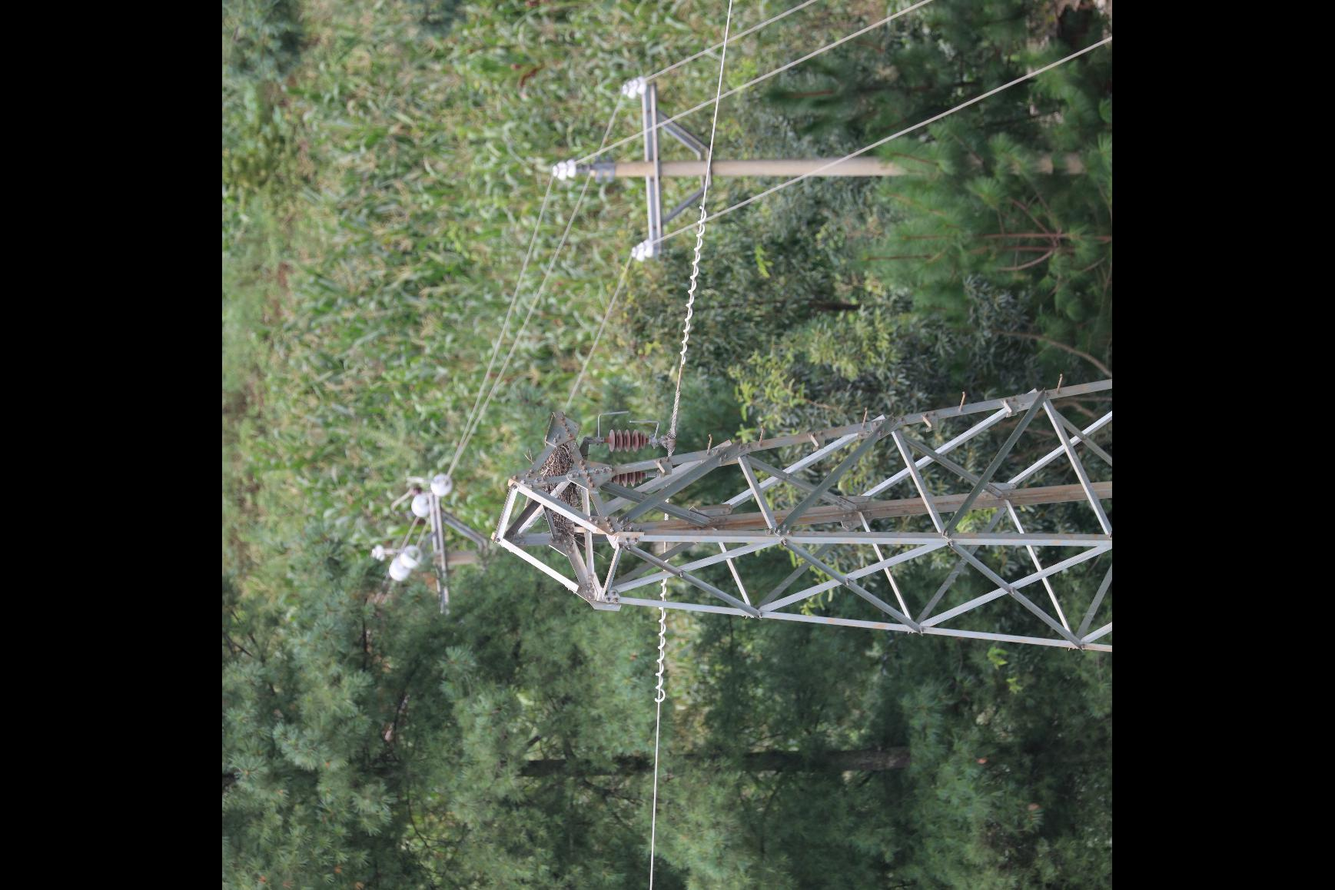nest: (537, 443, 579, 506)
